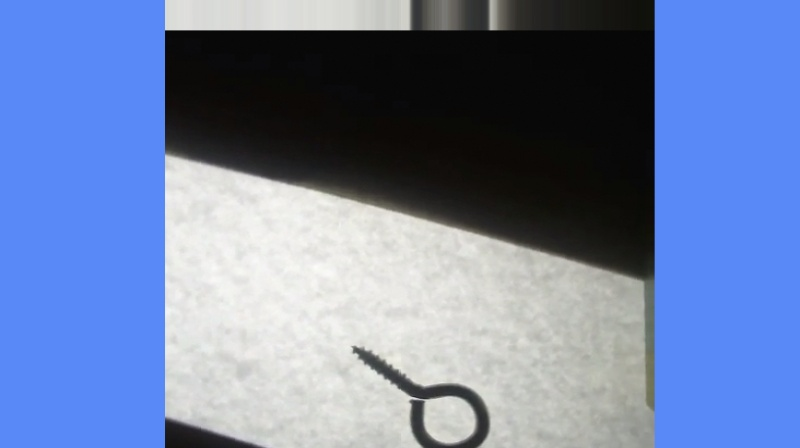O001: (348, 342, 494, 447)
